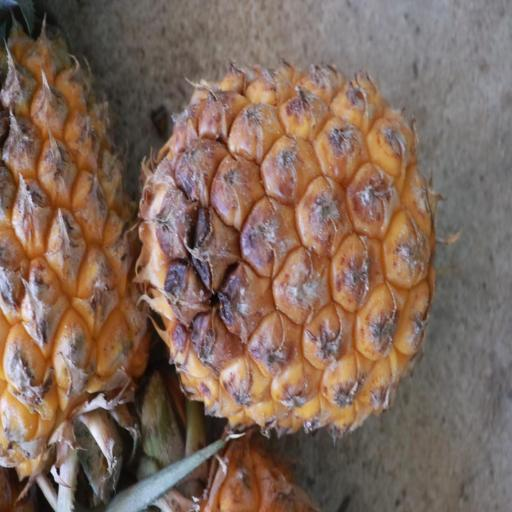Pineapple - v8 v1: (135, 66, 438, 440), (0, 4, 147, 512)
